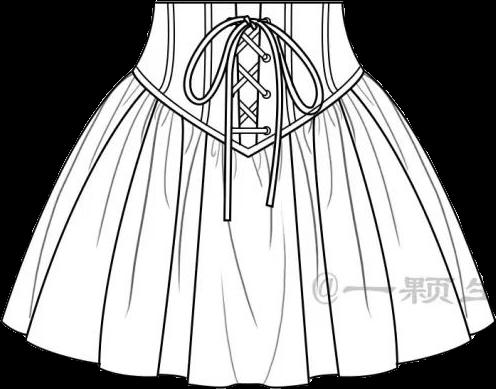Hemline: (0, 317, 495, 388)
Waistline: (131, 69, 365, 157), (153, 0, 343, 6)
